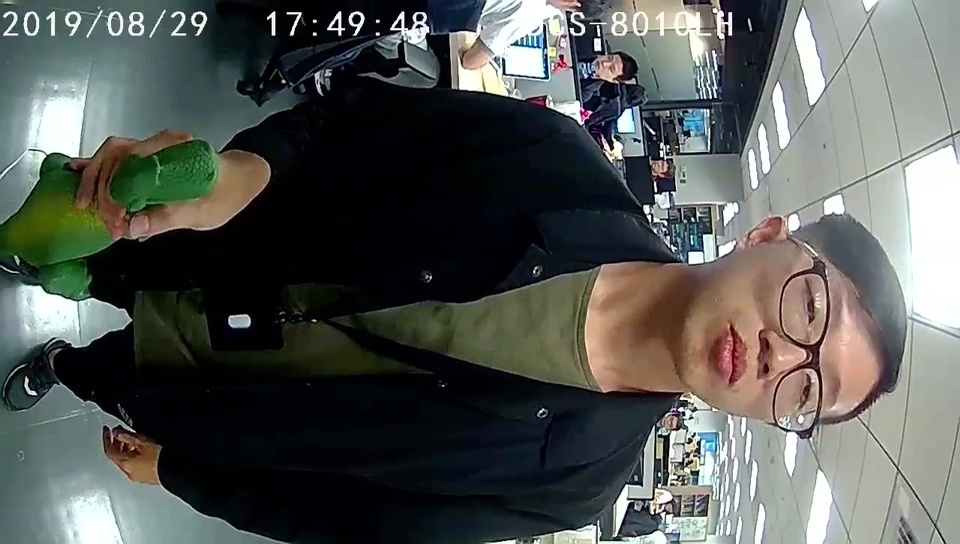rex: (4, 137, 219, 304)
